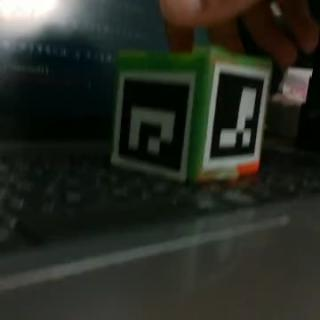armor: (112, 73, 196, 176), (207, 66, 269, 168)
robot: (110, 50, 272, 184)
